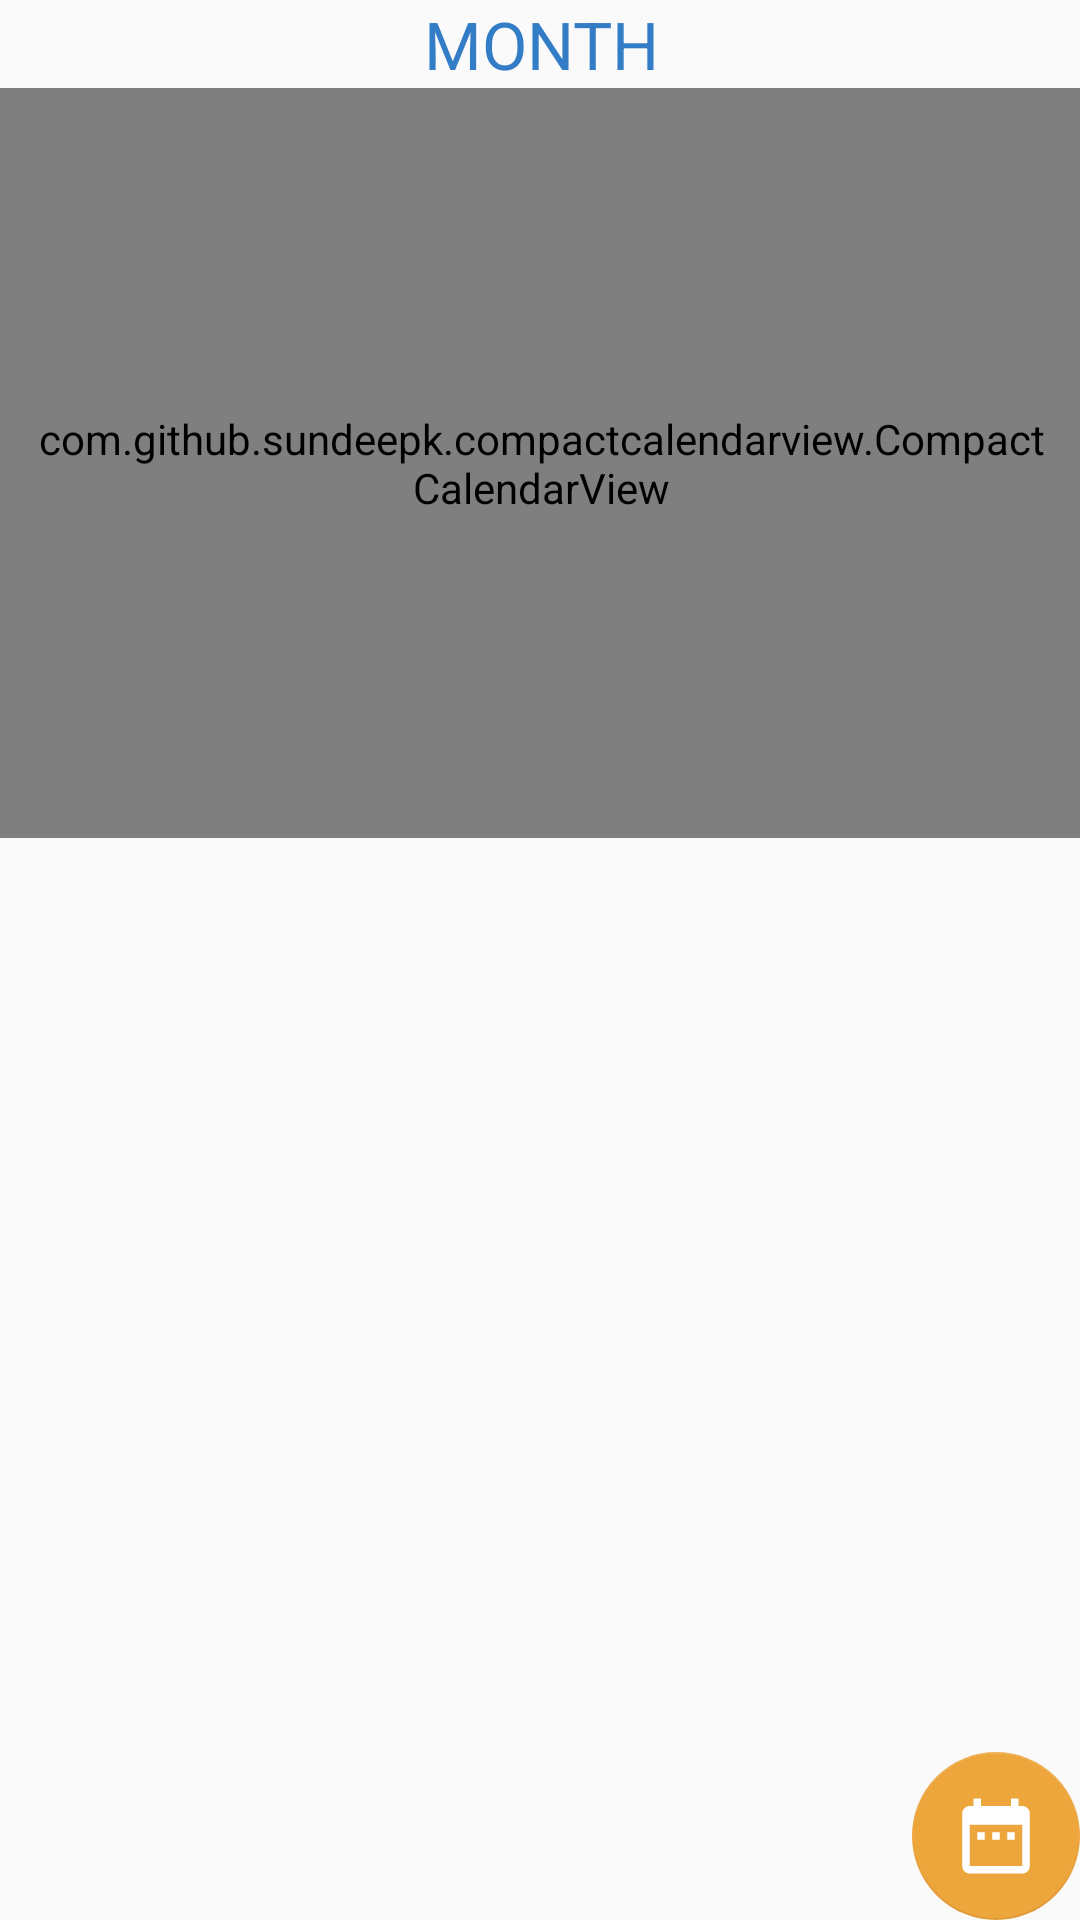

Where icons sit on this 1080 × 1920 app screen, as (x1, y1, x2, y2):
monthly: (912, 1752, 1080, 1920)
